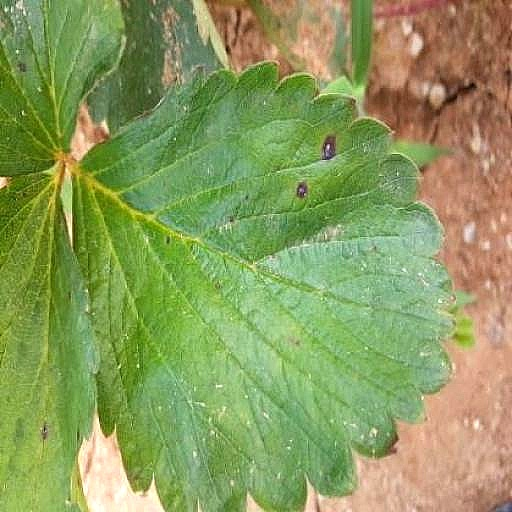Leaf Spot: (71, 59, 457, 511), (0, 173, 100, 511)
